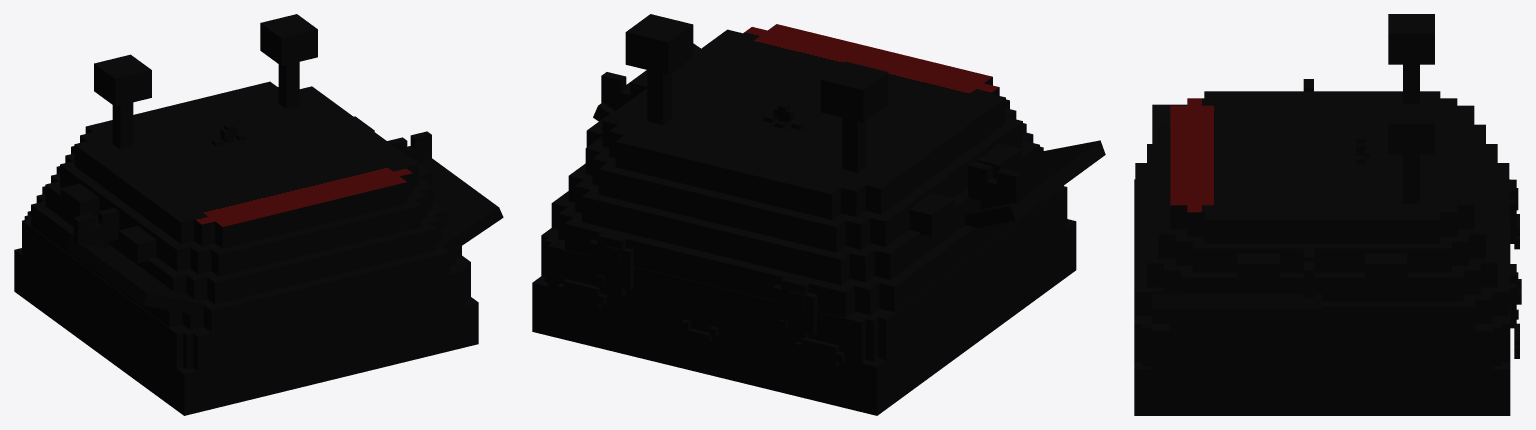
The model's file is hat_bumblebee.obj.
The picture shows the model from 3 angles, left to right: view 1: azimuth 30°, elevation 25°; view 2: azimuth 150°, elevation 25°; view 3: azimuth 270°, elevation 25°; orthographic projection. The views are drawn at different scales.
Size of the model in its own units: 0.678 by 0.4344 by 0.5697.
